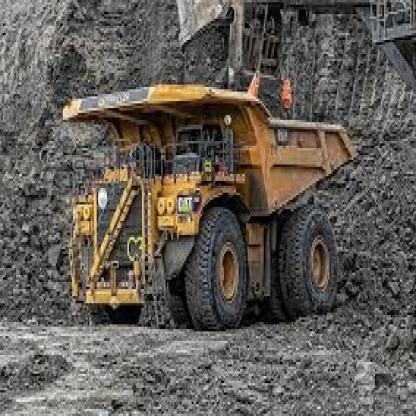dump_truck: (60, 52, 360, 326)
